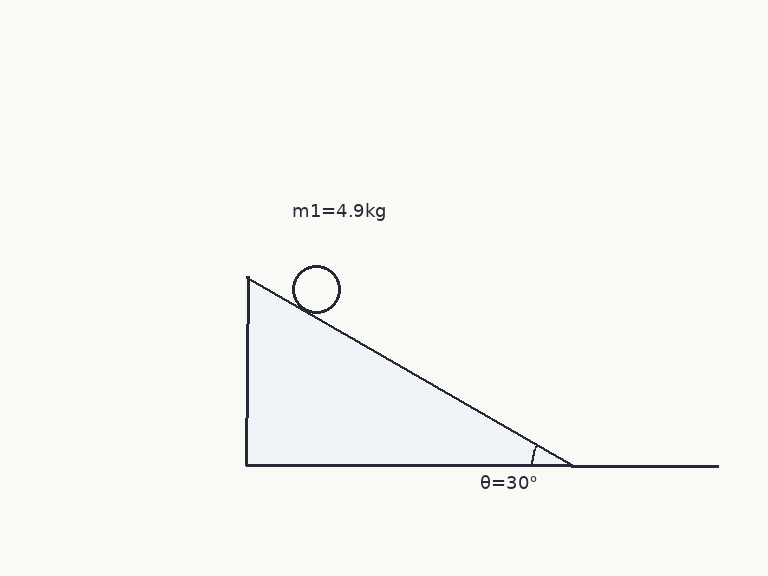ball: (290, 263, 342, 315)
ramp: (244, 275, 574, 467)
